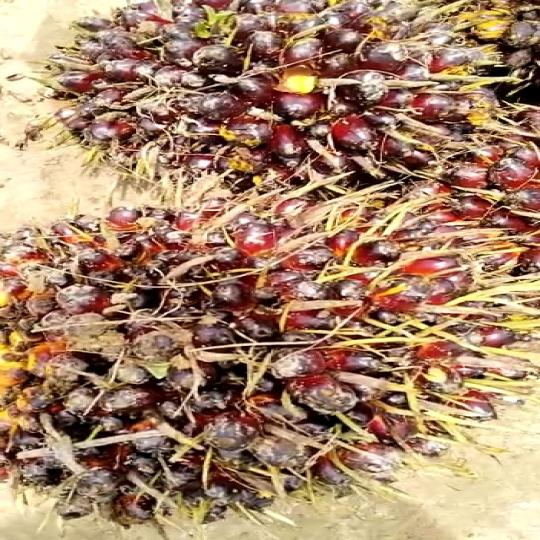kurang masak: (0, 196, 500, 539), (35, 0, 514, 180)
